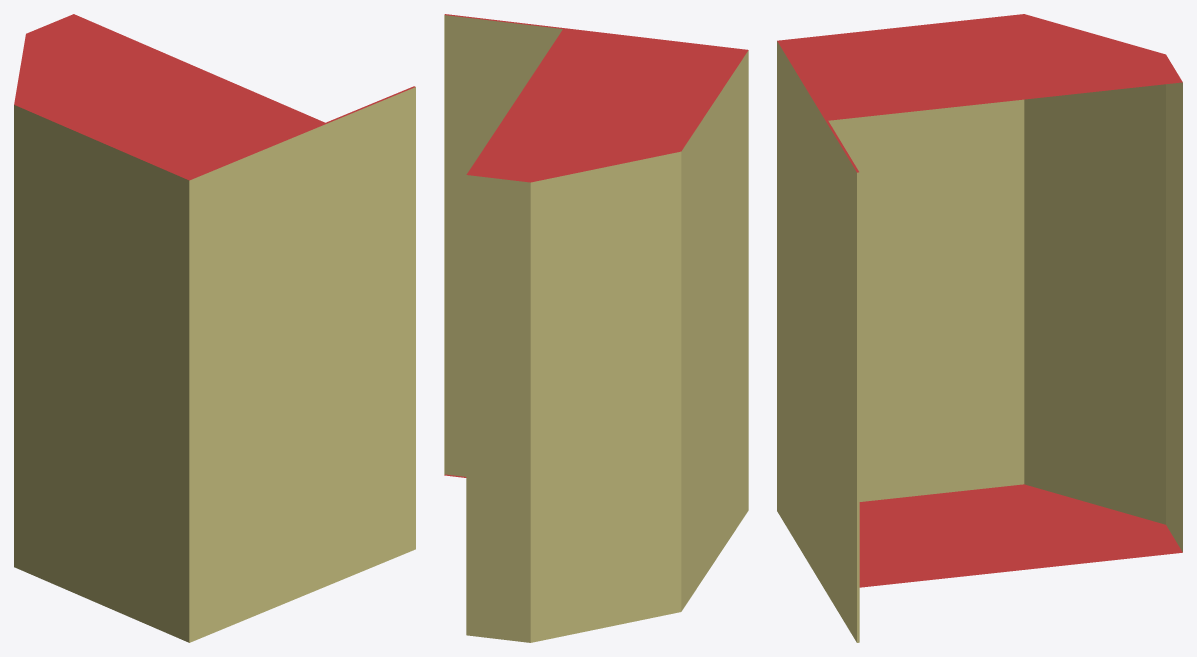
The picture shows the model from 3 angles, left to right: view 1: azimuth 30°, elevation 25°; view 2: azimuth 150°, elevation 25°; view 3: azimuth 270°, elevation 25°; orthographic projection. The views are drawn at different scales.
Size of the model in its own units: 5.03 by 5.44 by 6.96.
